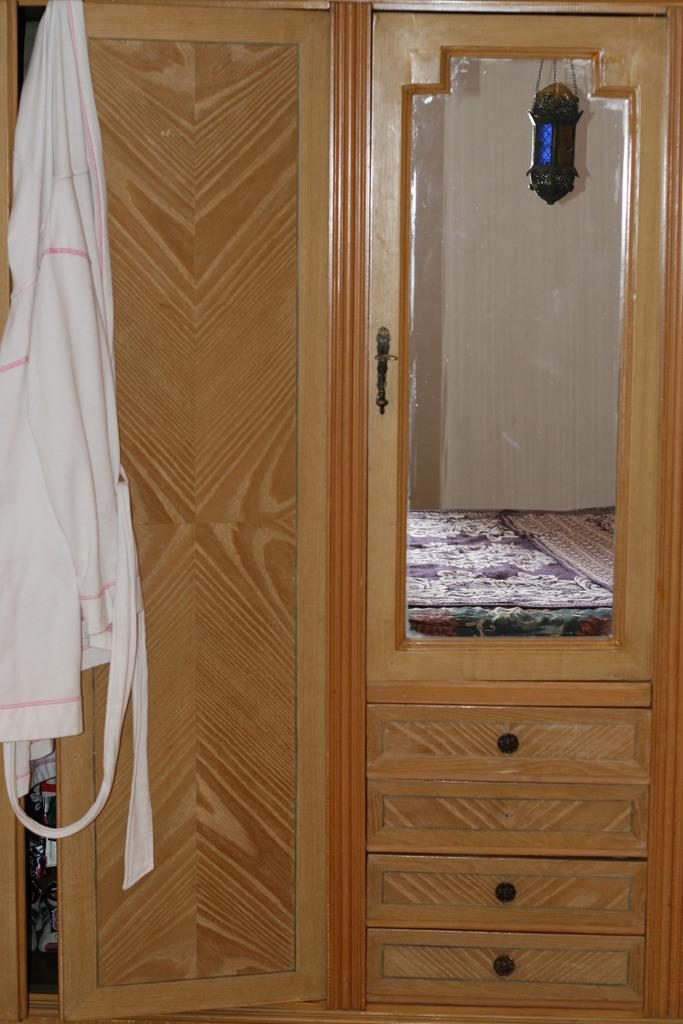cabinet_door: (374, 24, 656, 668), (361, 848, 646, 932), (362, 927, 644, 1011), (371, 700, 648, 781), (370, 792, 648, 860)
handle: (376, 308, 395, 412), (494, 724, 522, 761), (496, 870, 518, 916), (492, 943, 515, 983)
